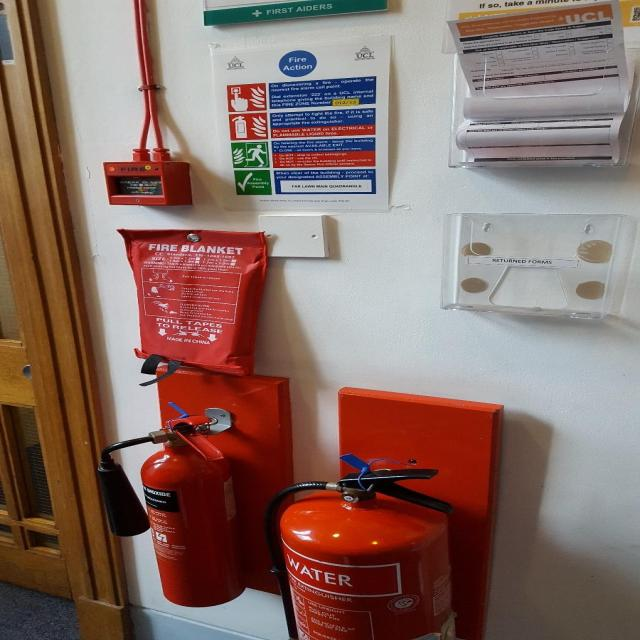fire_extinguisher: (259, 460, 471, 640), (81, 411, 260, 611)
